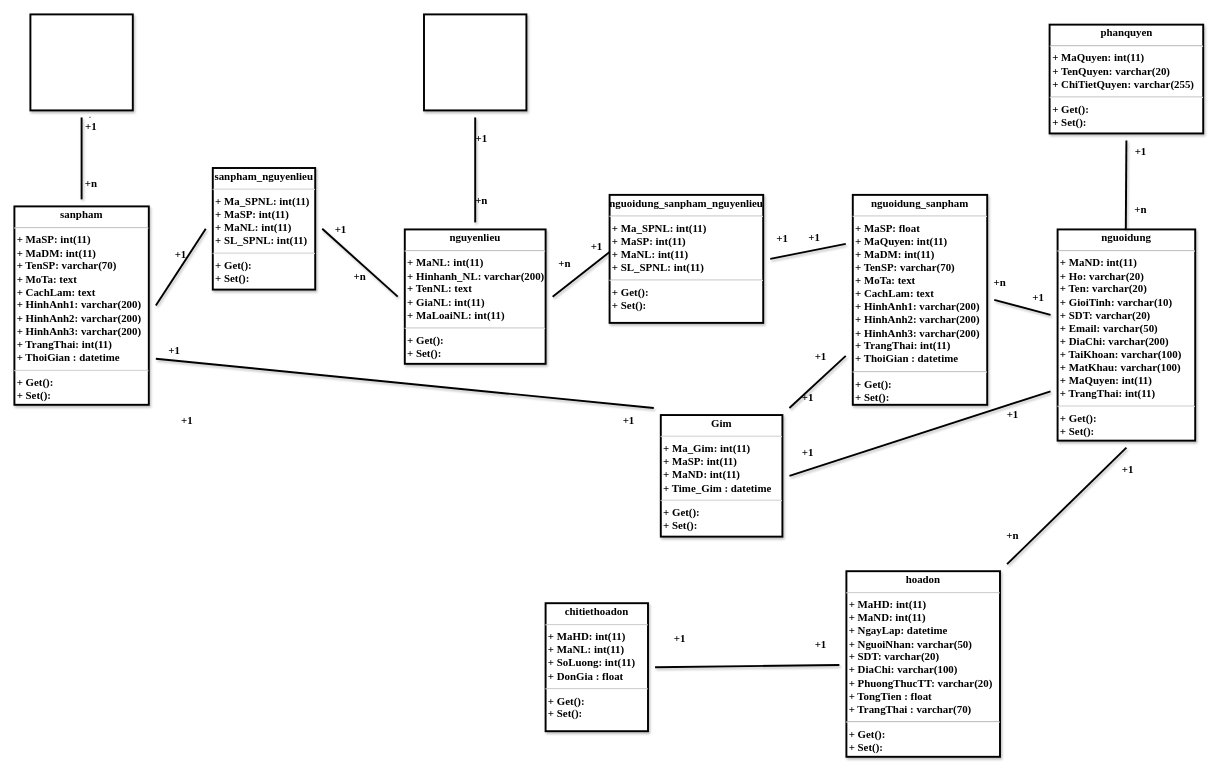
This 1219x773 diagram has some shape labels left out. Here are the shapes that lost their labels. From the top down, the centre of each, then its label:
At [82,63]: "danhmuc + MaDM: int(11) + TenDM : varchar(255) + Get(): + Set():".
At [475,63]: "loainguyenolieu + MaLoaiNL: int(11) + TenLoaiNL: text + Get(): + Set():".
